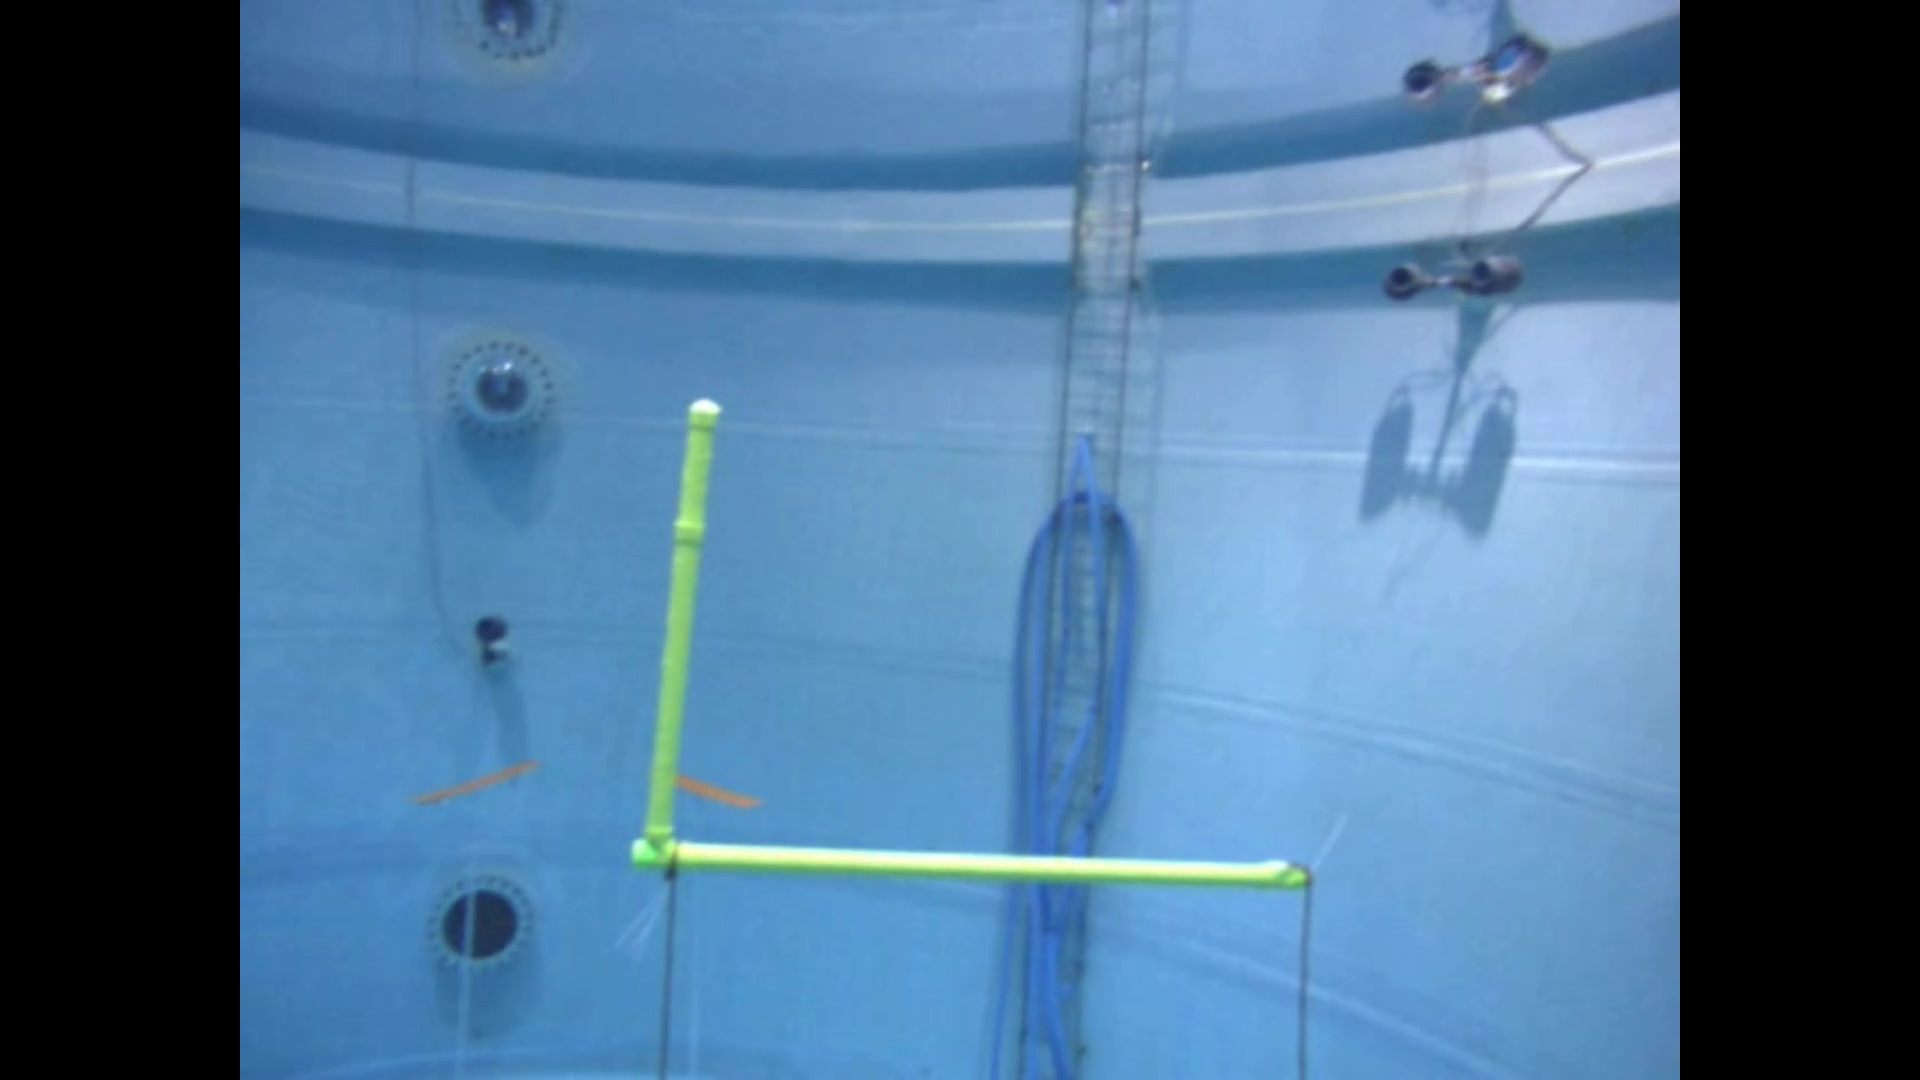gate: (624, 397, 1313, 891)
